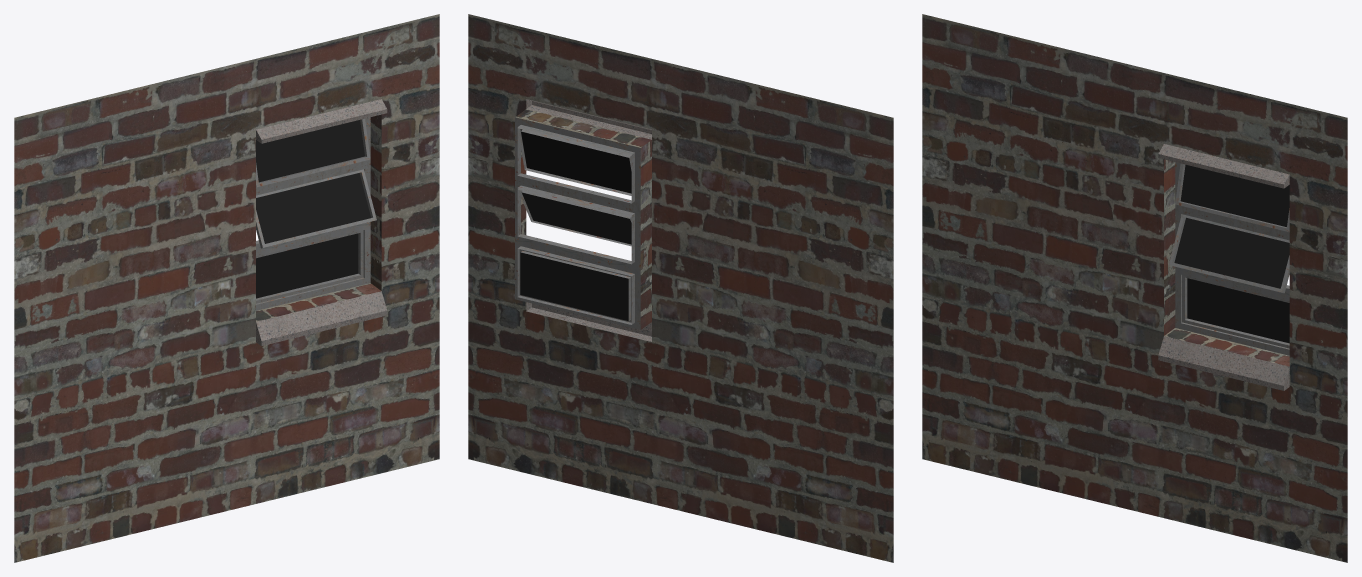
Rendered from window_001_1.gltf.
The picture shows the model from 3 angles, left to right: view 1: azimuth 30°, elevation 25°; view 2: azimuth 150°, elevation 25°; view 3: azimuth 330°, elevation 25°; orthographic projection.
Visible parts, largest first — view 1: Window_001_1; view 2: Window_001_1; view 3: Window_001_1.
Part boxes in pixels (x1=…): Window_001_1: x1=14, y1=14, x2=439, y2=562; Window_001_1: x1=468, y1=14, x2=893, y2=562; Window_001_1: x1=922, y1=14, x2=1347, y2=562.
Bounding box in the file's own units: 2.2 × 2.2 × 0.18.
Materials: 4 (3 with a texture image).
